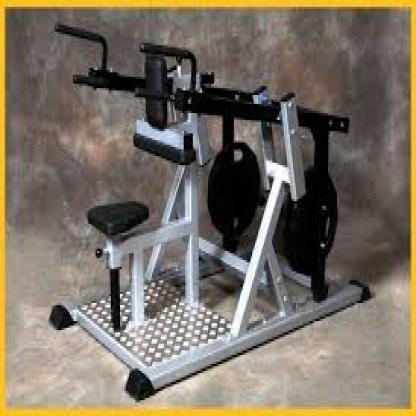seated dip machine: (49, 22, 375, 404)
